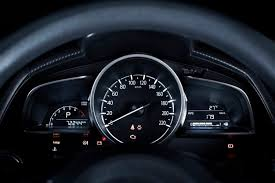Digital_Meter: (48, 120, 87, 130)
